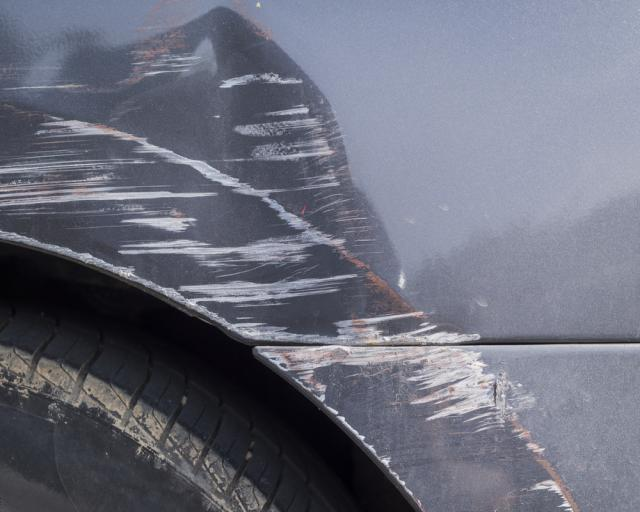dent: (113, 16, 328, 261)
scratch: (0, 29, 484, 345), (253, 340, 582, 512)
